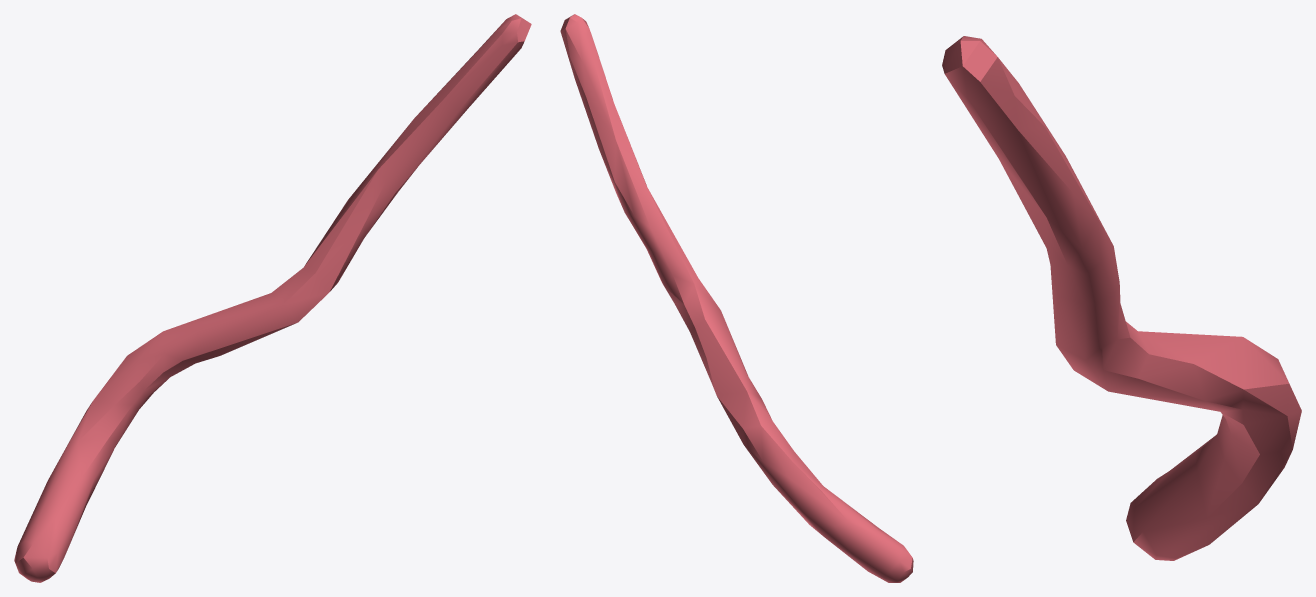
File: fma3837_fj2721.glb
The picture shows the model from 3 angles, left to right: view 1: azimuth 30°, elevation 25°; view 2: azimuth 150°, elevation 25°; view 3: azimuth 270°, elevation 25°; orthographic projection. The views are drawn at different scales.
Parts seen in each view (by area): view 1: FMA3837_FJ2721; view 2: FMA3837_FJ2721; view 3: FMA3837_FJ2721.
Part boxes in pixels (bbox=[...]): FMA3837_FJ2721: bbox=[14, 14, 531, 582]; FMA3837_FJ2721: bbox=[560, 14, 913, 582]; FMA3837_FJ2721: bbox=[942, 36, 1301, 560].
Bounding box in the file's own units: 0.0105 × 0.0111 × 0.00411.
